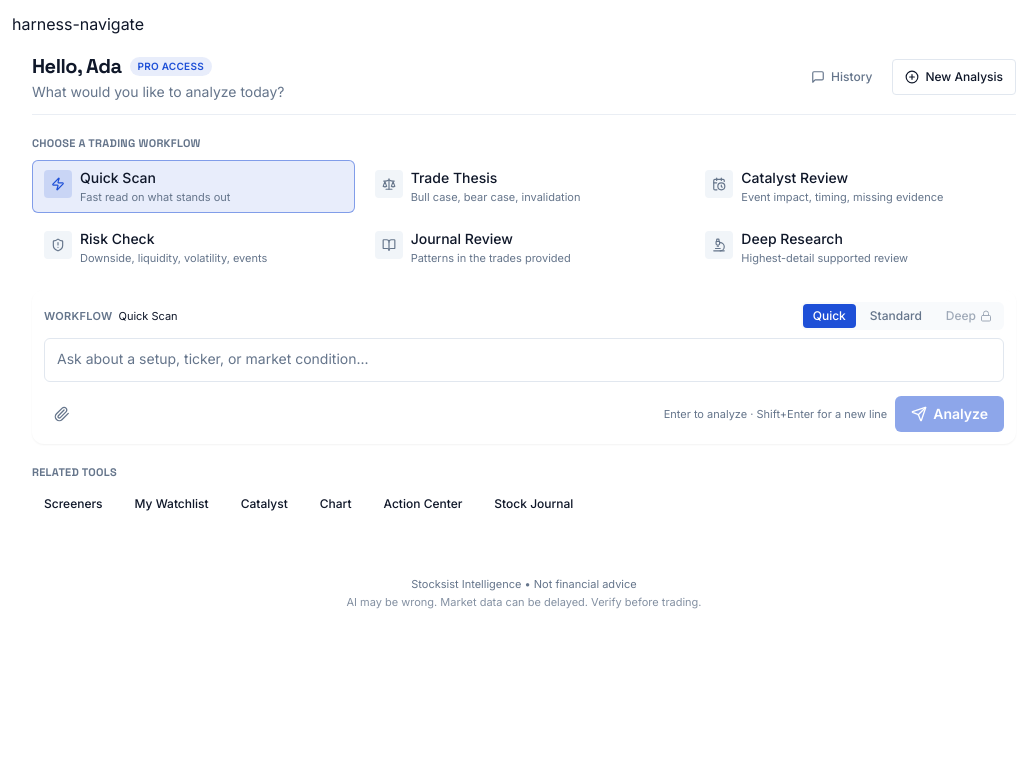
Scenario: AI Analyst — persistent workflow navigation › keeps the workflow controls available before and after messages exist
Expected: the link "Screeners" is shown, [32,488,115,520]
Expected: the link "My Watchlist" is shown, [123,488,221,520]
Type "Give me a plan" into the text box with placeholder "Ask about a setup, ticker, or market condition..." at (524, 360), box [44,338,1004,382]
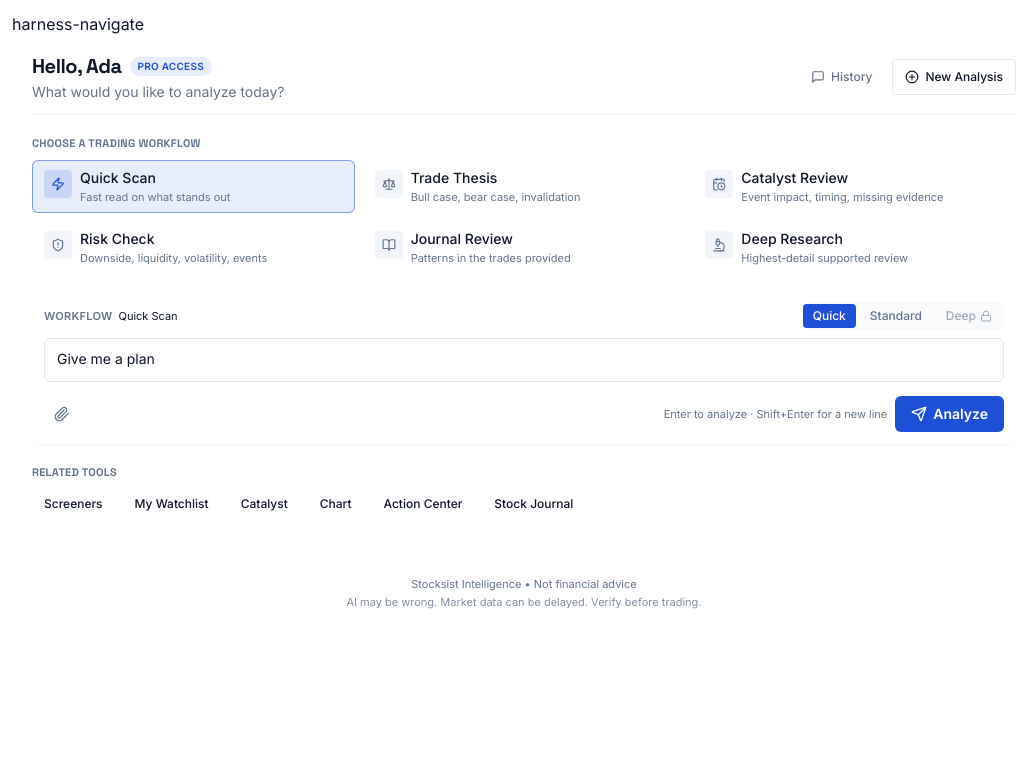
Press Enter in the text box with placeholder "Ask about a setup, ticker, or market condition...", box [44,338,1004,382]
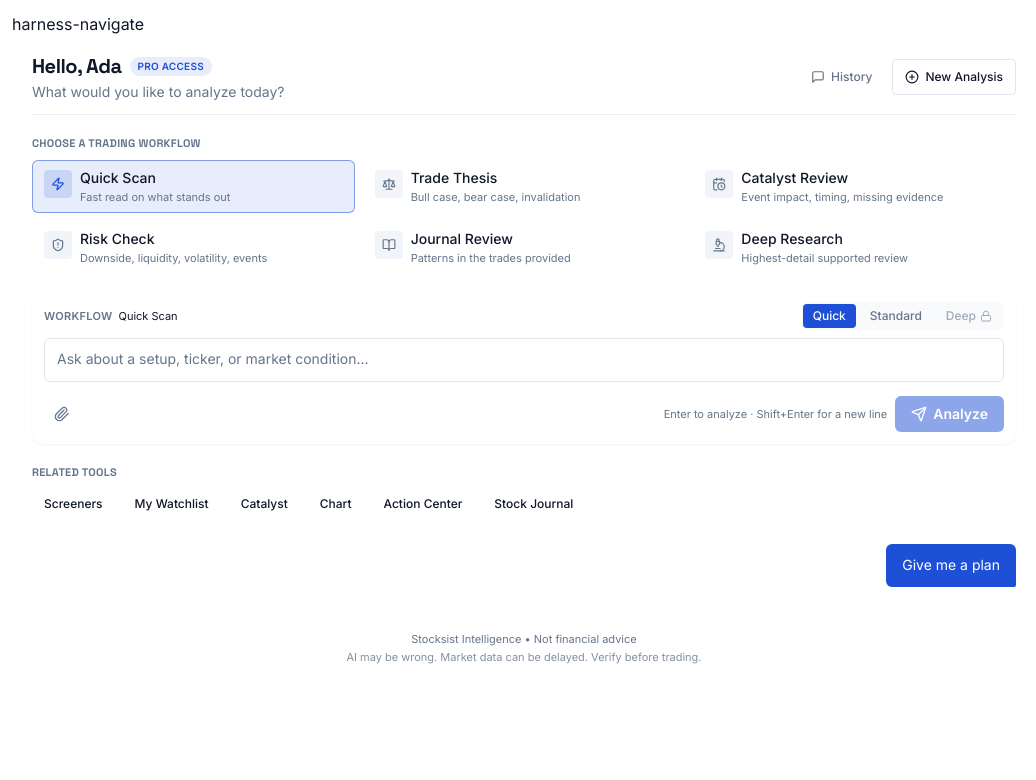
Expected: the link "Screeners" is shown, [32,488,115,520]
Now the text "Give me a plan" is shown, box [886,544,1016,587]
